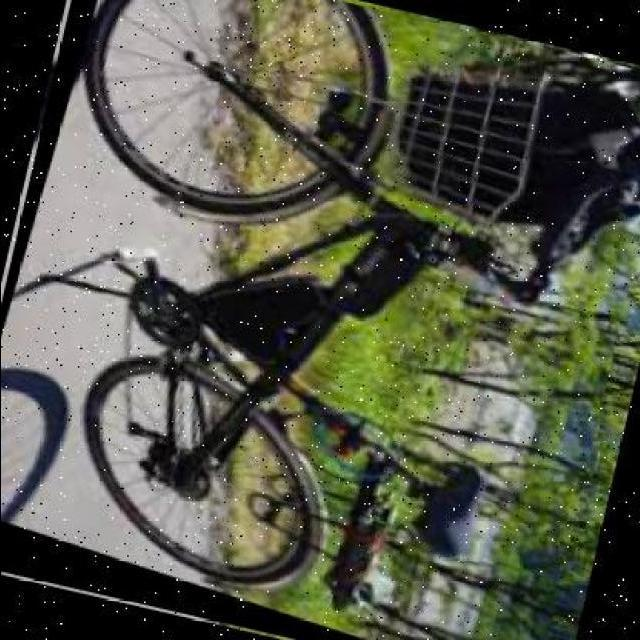bicycle: (3, 1, 640, 639)
